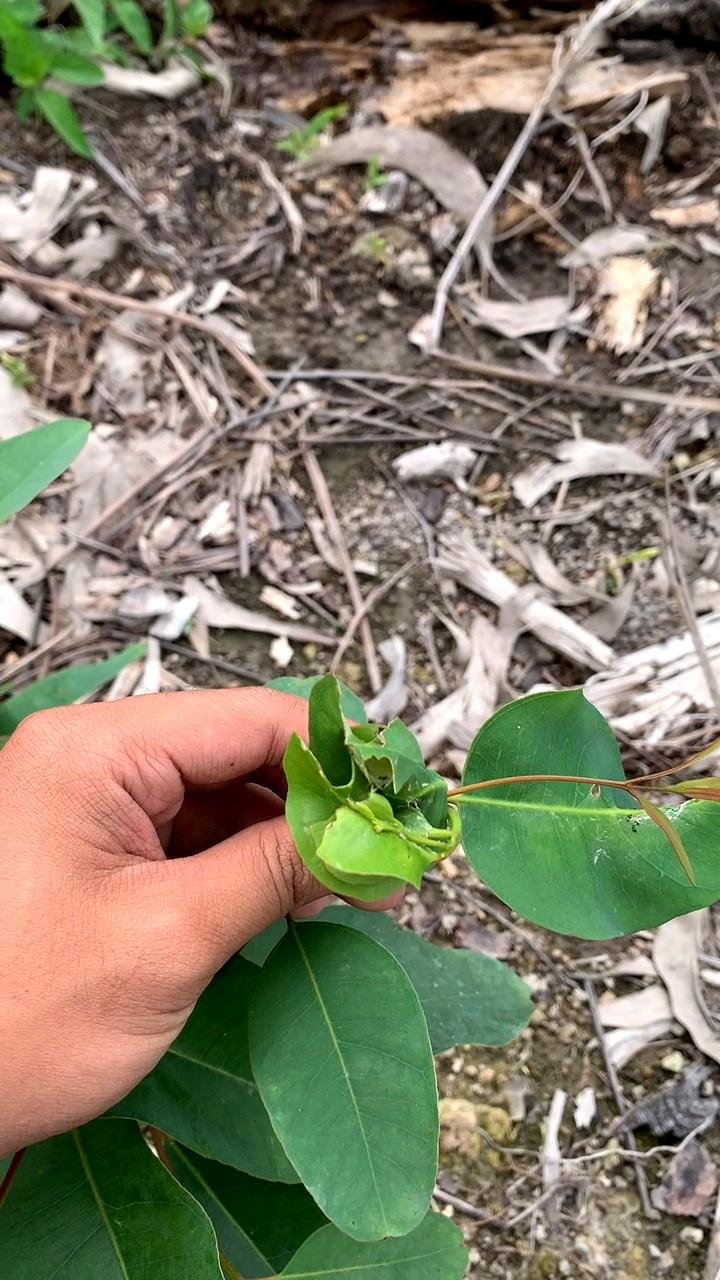Leaf Roller - Leaf: (263, 656, 475, 916)
